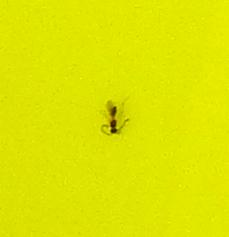Hymenoptera: (100, 100, 129, 137)
